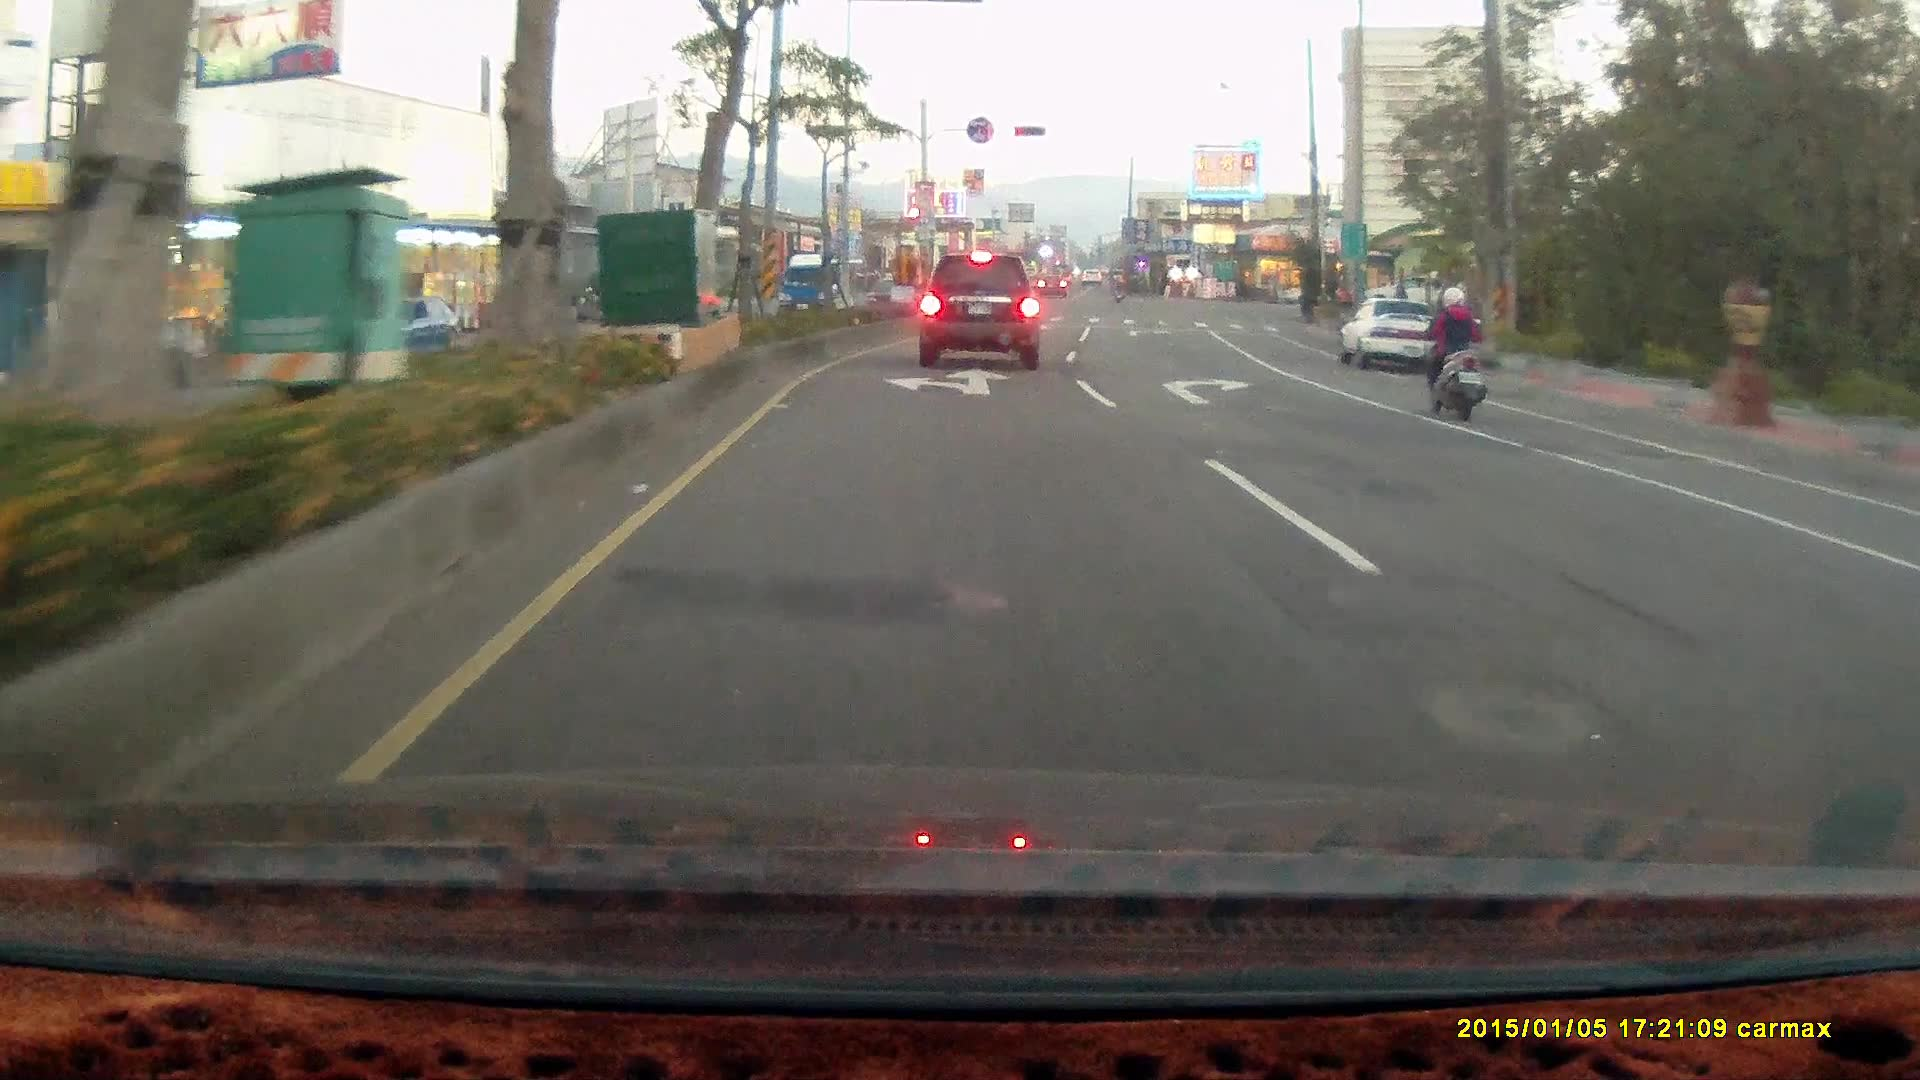rider: (1411, 279, 1490, 418)
vehicle: (917, 252, 1039, 370), (1336, 295, 1453, 374), (1340, 298, 1461, 375), (335, 297, 465, 360), (1896, 493, 1920, 836), (1883, 528, 1920, 690), (1362, 275, 1450, 313)
